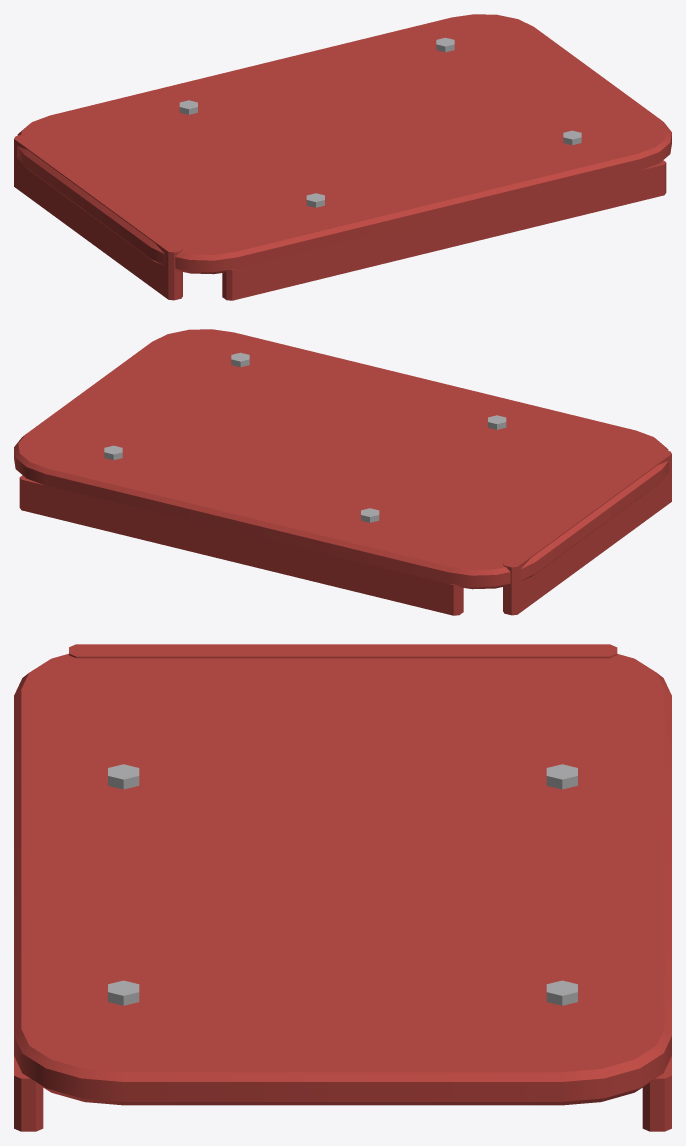
Rendered from tidy_tray.glb.
3 renders of one model, top to bottom at view 1: azimuth 30°, elevation 25°; view 2: azimuth 150°, elevation 25°; view 3: azimuth 270°, elevation 25°, orthographic. The views are drawn at different scales.
Parts seen in each view (by area): view 1: tidy_tray; view 2: tidy_tray; view 3: tidy_tray.
Part boxes in pixels (x1,y1,x2,y2): tidy_tray: [14, 14, 671, 300]; tidy_tray: [14, 329, 671, 615]; tidy_tray: [14, 644, 671, 1131].
Bounding box in the file's own units: 0.28 × 0.0275 × 0.18.
